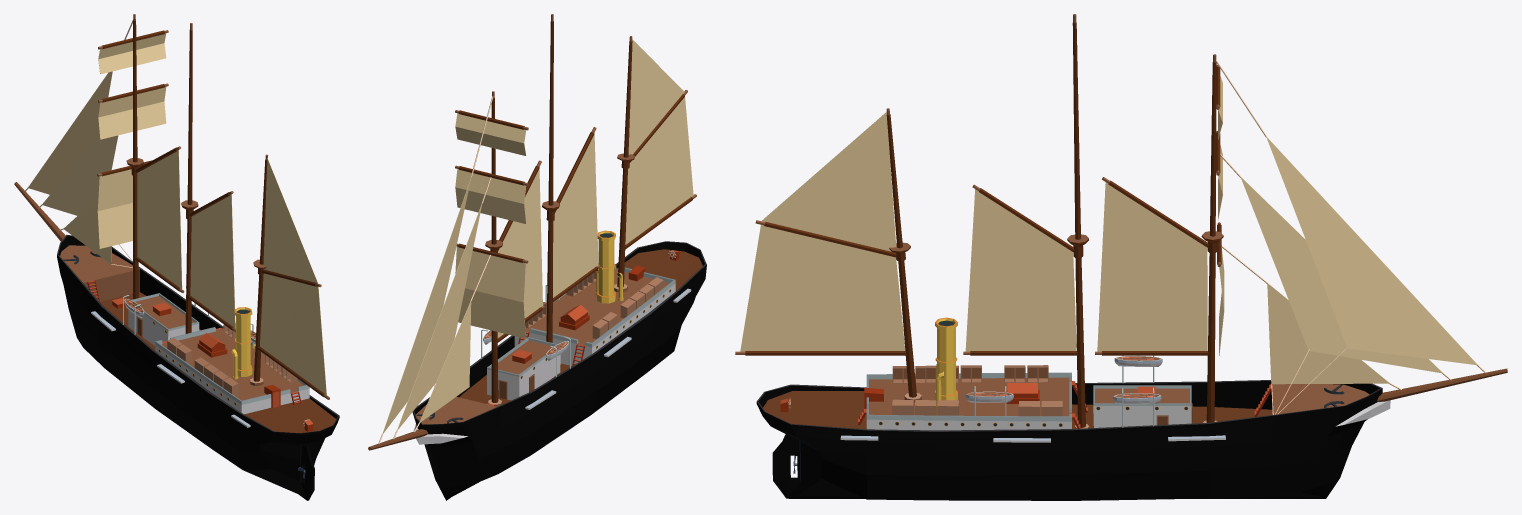
The model's file is Endurance_LowPoly.fbx.
3 views of the same model, side by side, from view 1: azimuth 30°, elevation 25°; view 2: azimuth 150°, elevation 25°; view 3: azimuth 270°, elevation 25° (orthographic). The views are drawn at different scales.
Visible parts, largest first — view 1: Endurance_Join; view 2: Endurance_Join; view 3: Endurance_Join.
Boxes of the visible parts, x1,y1,x2,y2 form: Endurance_Join: (14,14,339,500); Endurance_Join: (368,14,706,500); Endurance_Join: (735,14,1507,500).
Size of the model in its own units: 57.4 by 246 by 355.
Materials: 1 (1 with a texture image).
